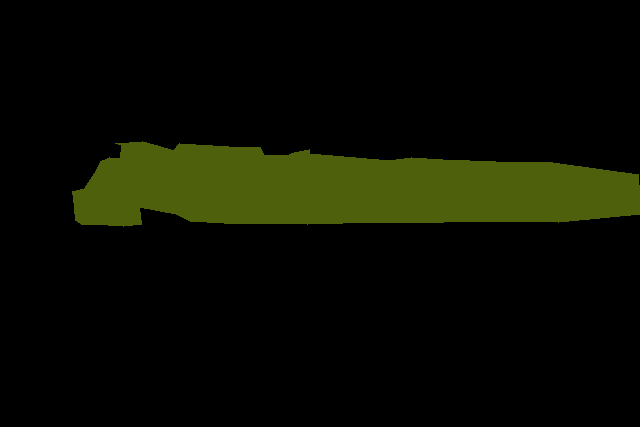Train: (72, 141, 640, 227)
